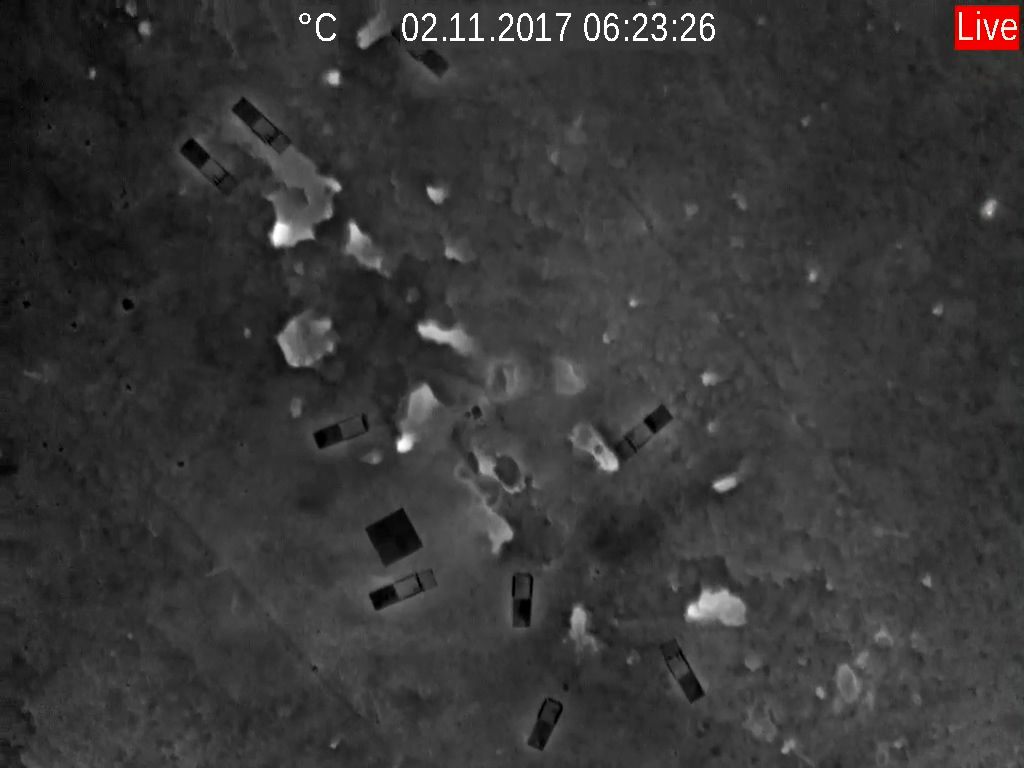warren: (459, 445, 541, 563), (385, 376, 440, 453), (679, 569, 751, 627), (564, 417, 622, 481), (339, 210, 390, 272), (409, 309, 471, 356), (263, 206, 318, 250), (345, 9, 397, 53), (701, 453, 754, 496), (567, 592, 599, 654), (309, 157, 347, 197), (438, 231, 476, 267), (421, 175, 449, 209)
